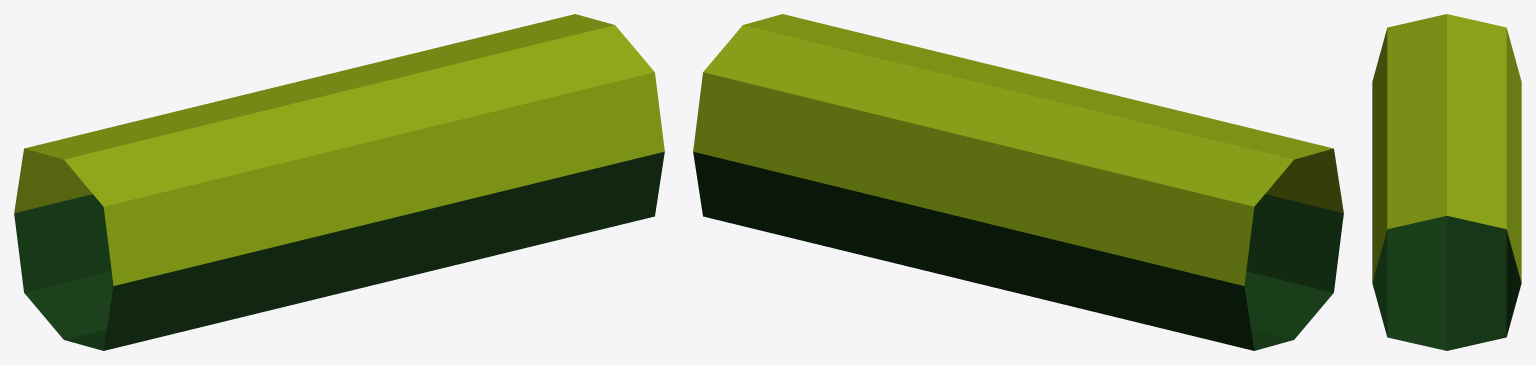
3 views of the same model, side by side, from view 1: azimuth 30°, elevation 25°; view 2: azimuth 150°, elevation 25°; view 3: azimuth 270°, elevation 25° (orthographic). The views are drawn at different scales.
Visible parts, largest first — view 1: default; view 2: default; view 3: default.
Part boxes in pixels (x1,y1,x2,y2): default: [14, 14, 664, 350]; default: [693, 14, 1343, 350]; default: [1372, 14, 1521, 350].
Size of the model in its own units: 2 by 0.625 by 0.625.
Materials: 1 (1 with a texture image).
